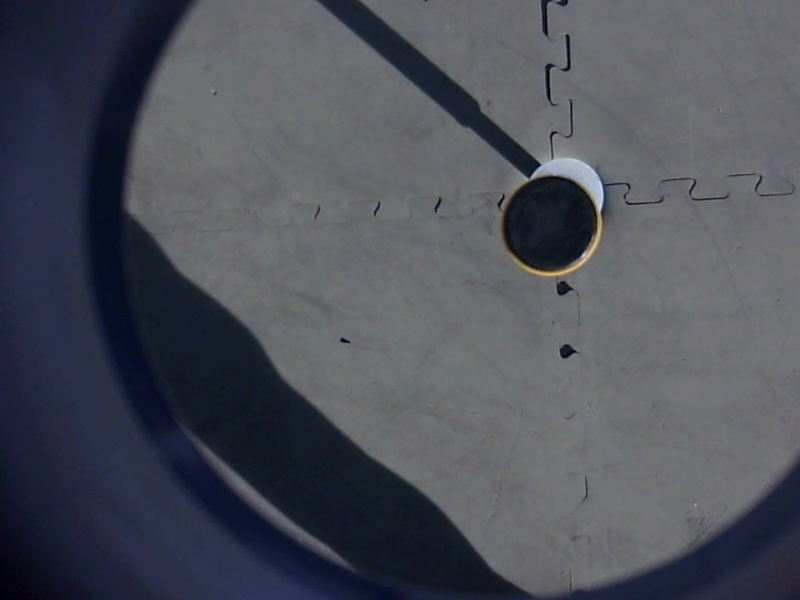tip: (491, 171, 610, 284)
